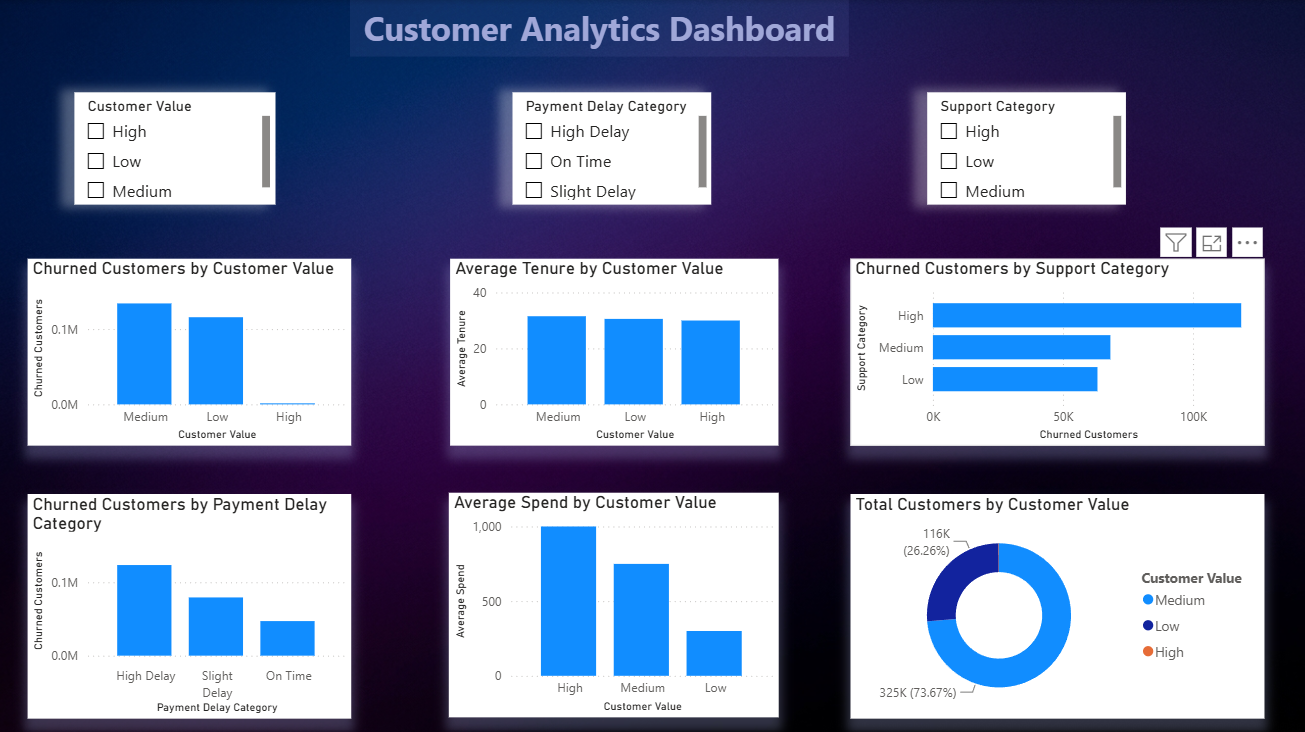

Layout of this report page (visuals, bound fields, positions):
{"tool":"powerbi","page":{"name":"Page 2","canvas":[1280,720],"ordinal":1},"visuals":[{"type":"slicer","fields":{"Values":["customer_churn.Customer Value"]},"box":[73.3,90,196.7,110],"z":0},{"type":"slicer","fields":{"Values":["customer_churn.Payment Delay Category"]},"box":[503.3,90,195,110],"z":1000},{"type":"slicer","fields":{"Values":["customer_churn.Support Category"]},"box":[908.3,90,195,110],"z":2000},{"type":"textbox","box":[344.3,0,488.6,55.7],"z":3000},{"type":"clusteredColumnChart","fields":{"Category":["customer_churn.Customer Value"],"Y":["customer_churn.Churned Customers"]},"box":[28.3,253.3,316.7,183.3],"z":4000},{"type":"clusteredColumnChart","fields":{"Category":["customer_churn.Payment Delay Category"],"Y":["customer_churn.Churned Customers"]},"box":[28.3,483.3,316.7,220],"z":5000},{"type":"clusteredBarChart","fields":{"Category":["customer_churn.Support Category"],"Y":["customer_churn.Churned Customers"]},"box":[833.3,253.3,405,183.3],"z":6000},{"type":"clusteredColumnChart","fields":{"Category":["customer_churn.Customer Value"],"Y":["customer_churn.Average Spend"]},"box":[440,483,323,220],"z":7000},{"type":"clusteredColumnChart","fields":{"Category":["customer_churn.Customer Value"],"Y":["customer_churn.Average Tenure"]},"box":[441.7,253.3,321.7,183.3],"z":8000},{"type":"donutChart","fields":{"Category":["customer_churn.Customer Value"],"Y":["customer_churn.Total Customers"]},"box":[833.3,483.3,405,220],"z":9000}]}

Visuals, with their boxes in screenshot pixels (x1, y1, x2, y2), scaled from the page's 1280x720 canvas onto the 1305x732 screenshot:
slicer - customer_churn.Customer Value: x1=75, y1=92, x2=275, y2=203
slicer - customer_churn.Payment Delay Category: x1=513, y1=92, x2=712, y2=203
slicer - customer_churn.Support Category: x1=926, y1=92, x2=1125, y2=203
textbox: x1=351, y1=0, x2=849, y2=57
clusteredColumnChart - customer_churn.Customer Value x customer_churn.Churned Customers: x1=29, y1=258, x2=352, y2=444
clusteredColumnChart - customer_churn.Payment Delay Category x customer_churn.Churned Customers: x1=29, y1=491, x2=352, y2=715
clusteredBarChart - customer_churn.Support Category x customer_churn.Churned Customers: x1=850, y1=258, x2=1262, y2=444
clusteredColumnChart - customer_churn.Customer Value x customer_churn.Average Spend: x1=449, y1=491, x2=778, y2=715
clusteredColumnChart - customer_churn.Customer Value x customer_churn.Average Tenure: x1=450, y1=258, x2=778, y2=444
donutChart - customer_churn.Customer Value x customer_churn.Total Customers: x1=850, y1=491, x2=1262, y2=715
